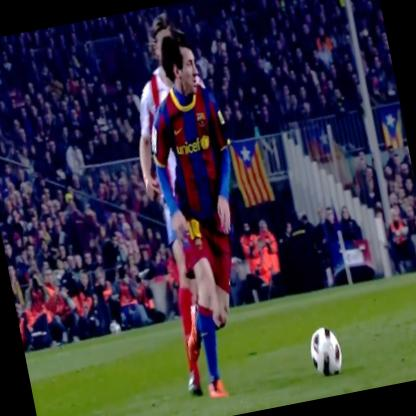ball: (306, 326, 348, 378)
